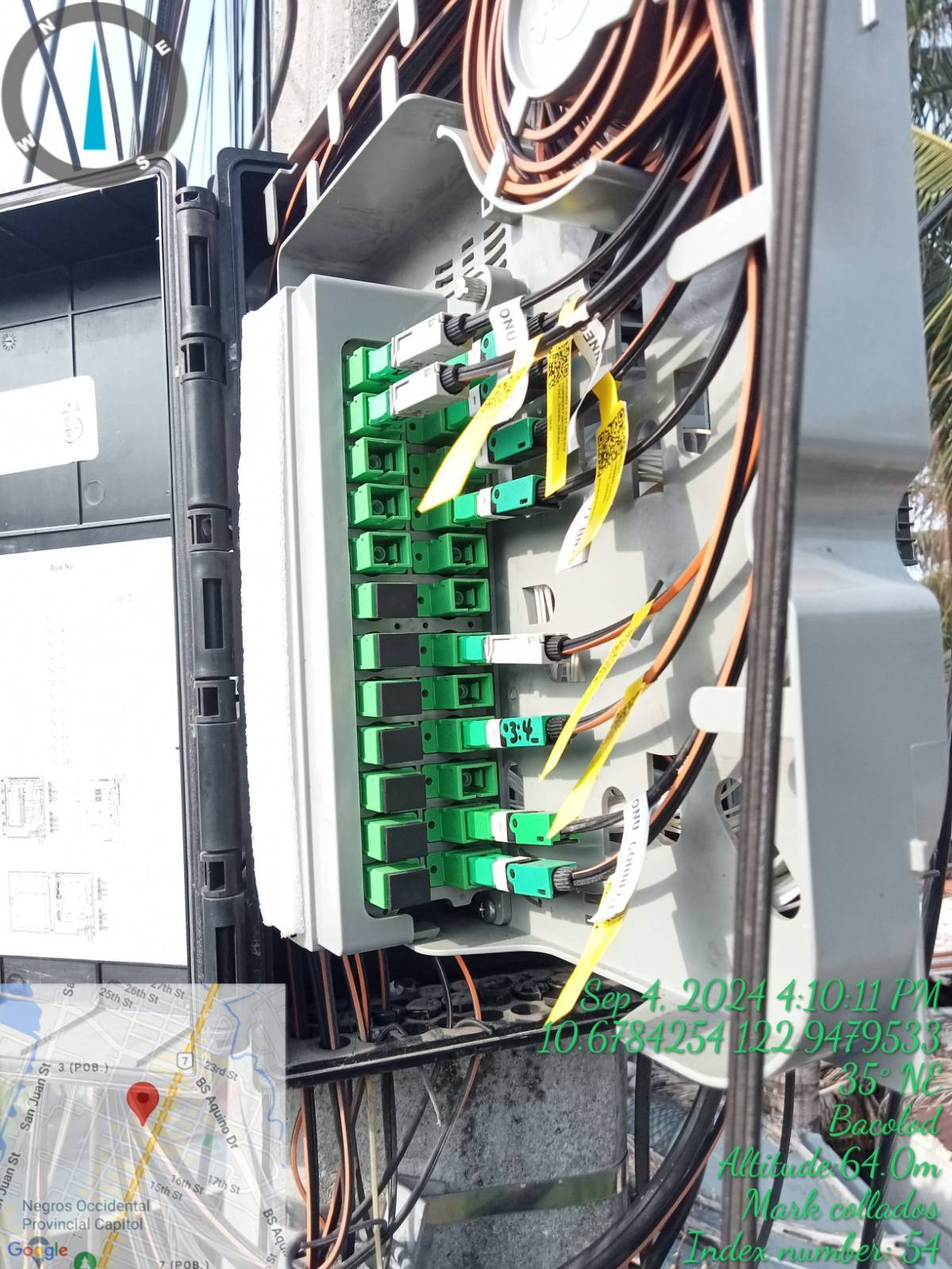no dust cap: (369, 532, 411, 568), (369, 484, 409, 520), (366, 439, 406, 475), (460, 763, 497, 800), (455, 673, 493, 709), (448, 534, 487, 567), (452, 580, 490, 610)
occupied: (368, 305, 475, 392), (449, 349, 553, 436), (450, 408, 561, 488), (366, 354, 474, 434), (447, 312, 554, 376), (454, 470, 567, 530), (472, 851, 580, 902), (470, 806, 585, 845), (465, 716, 578, 753), (459, 634, 577, 666)
vacant: (385, 822, 429, 863), (389, 871, 433, 912), (380, 726, 423, 765), (384, 775, 427, 814), (378, 634, 420, 669), (379, 683, 421, 718), (376, 584, 418, 619)
